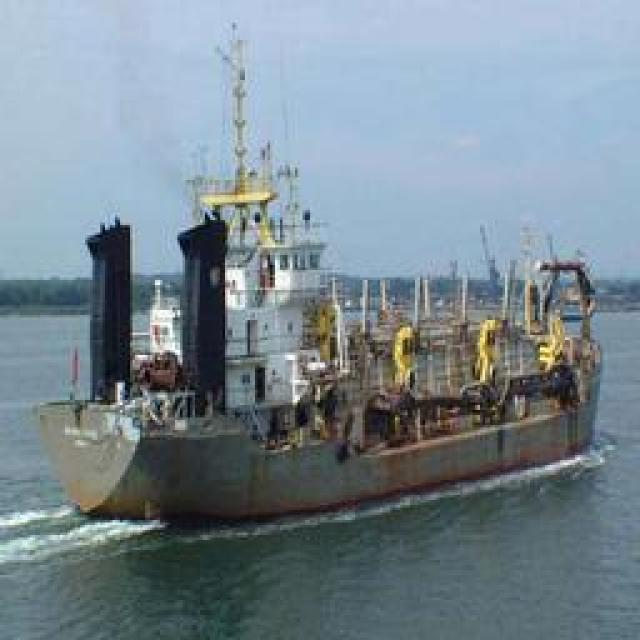CIV_Ship: (26, 112, 604, 530)
